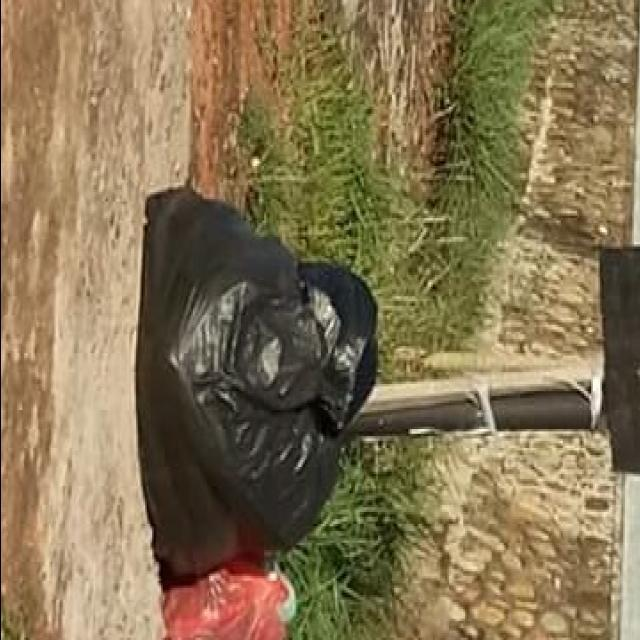Trashbag: (138, 182, 382, 588)
